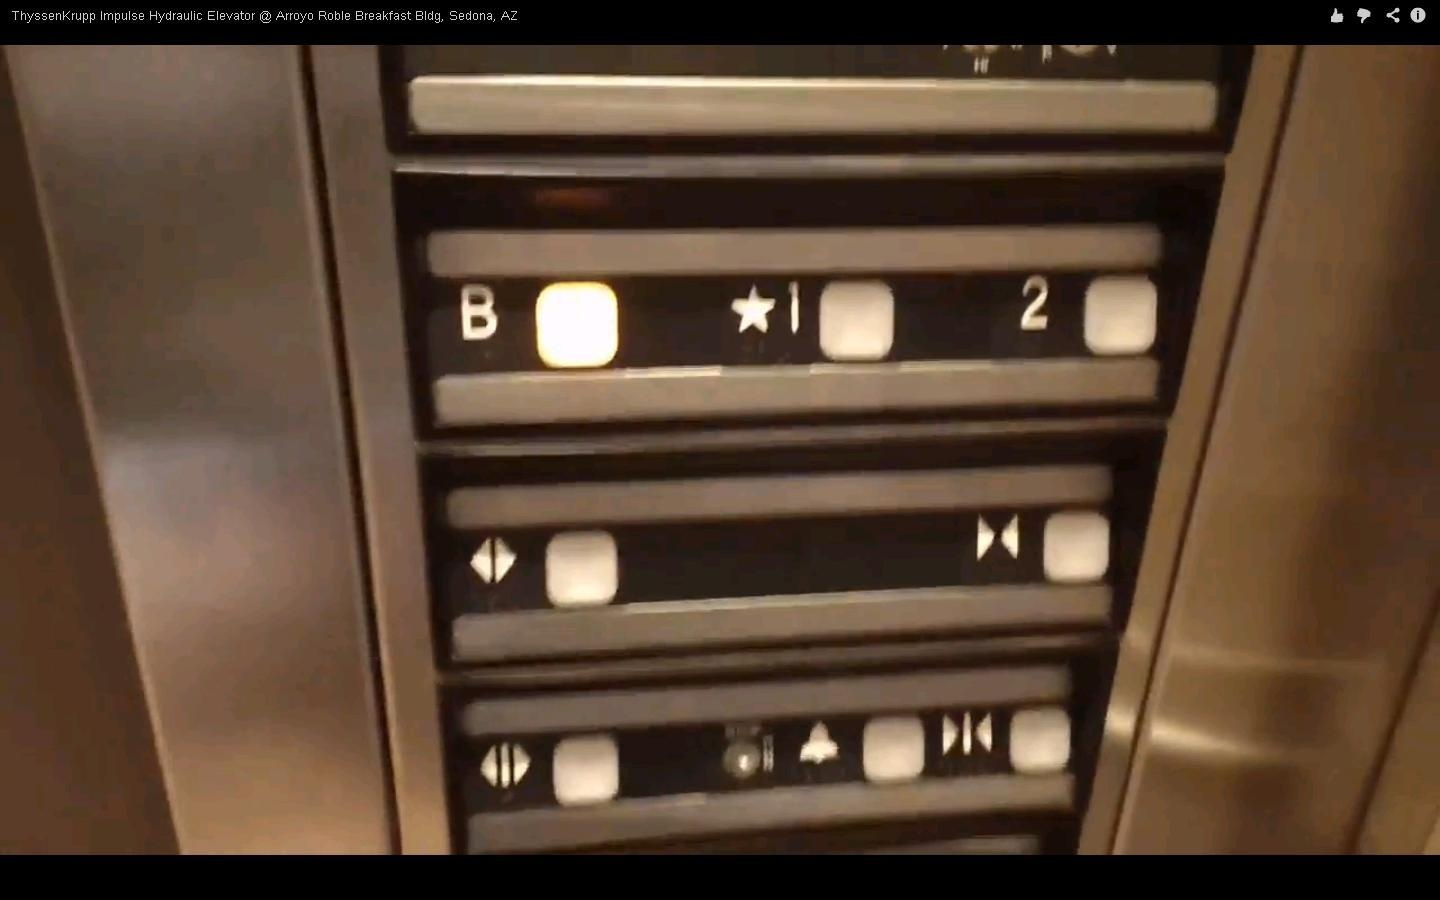2: (980, 260, 1166, 369)
B: (446, 268, 628, 382)
alarm: (792, 706, 930, 792)
bt_keyhole: (636, 710, 785, 806)
close: (956, 497, 1118, 596), (937, 697, 1075, 782)
open: (453, 515, 627, 624), (464, 724, 630, 819)
s1: (709, 264, 901, 374)
